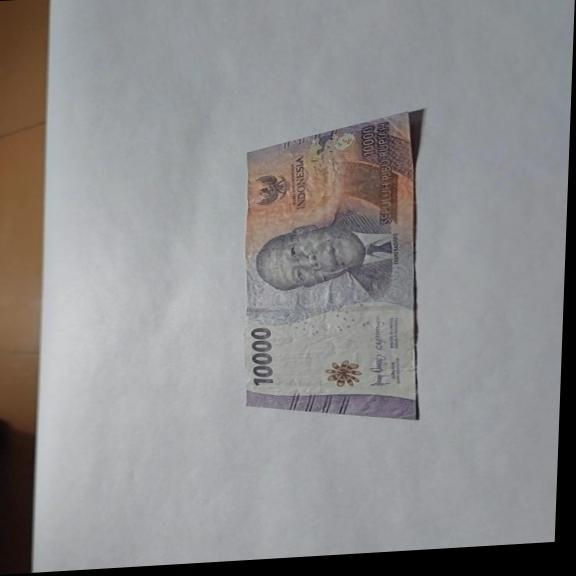Kertas: (234, 107, 431, 431), (247, 325, 277, 387)
